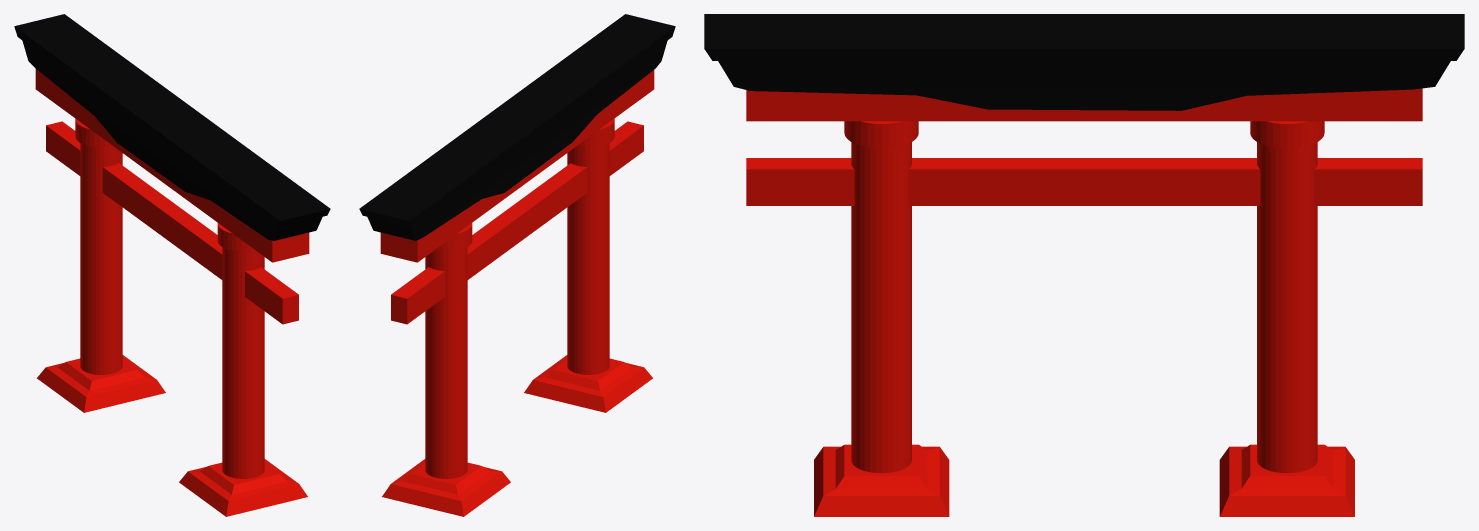
Rendered from tori gate .fbx.
The picture shows the model from 3 angles, left to right: view 1: azimuth 30°, elevation 25°; view 2: azimuth 150°, elevation 25°; view 3: azimuth 270°, elevation 25°; orthographic projection. The views are drawn at different scales.
Parts seen in each view (by area): view 1: Cube.003; view 2: Cube.003; view 3: Cube.003.
Part boxes in pixels (bbox=[...]): Cube.003: bbox=[14, 14, 330, 516]; Cube.003: bbox=[359, 14, 675, 516]; Cube.003: bbox=[704, 14, 1464, 516].
Size of the model in its own units: 200 by 745 by 1124.
